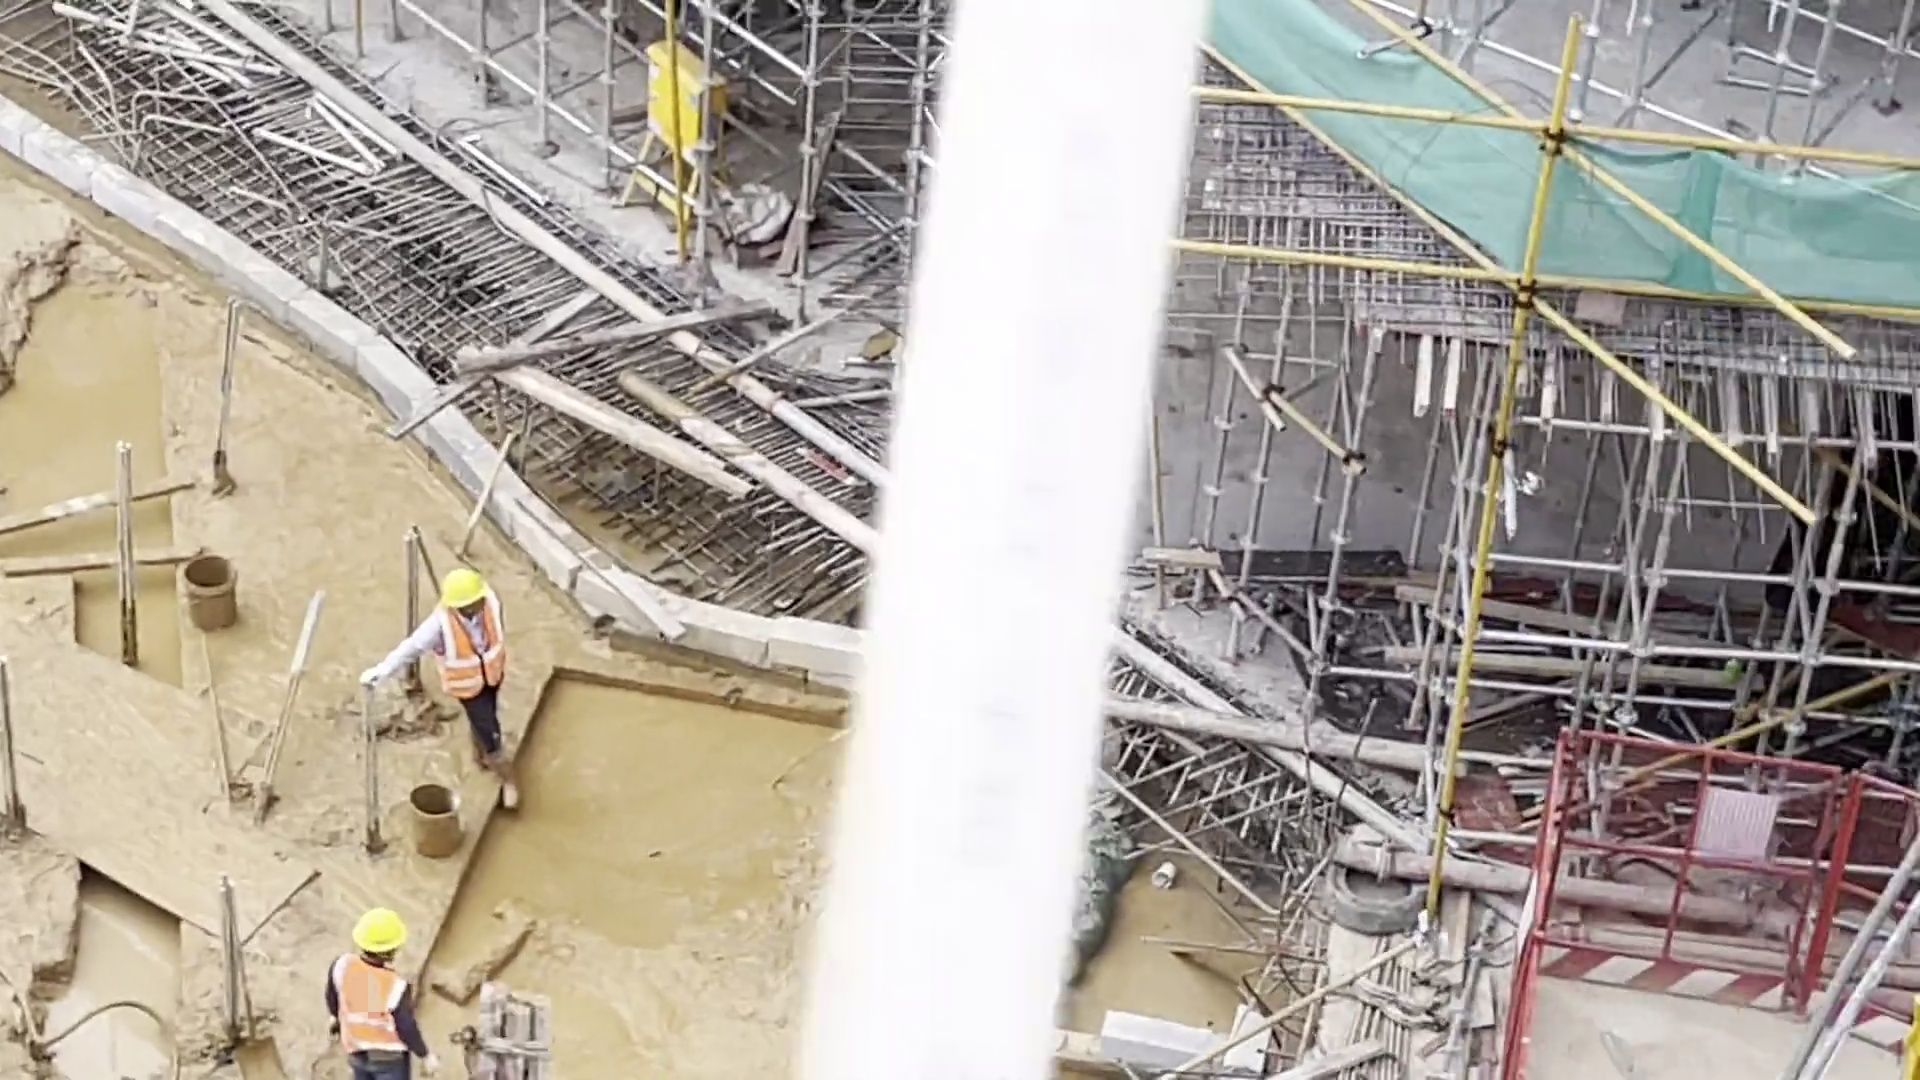helmet: (354, 905, 408, 952), (437, 569, 486, 611)
person: (359, 563, 507, 765), (321, 906, 436, 1080)
vest: (333, 947, 415, 1064), (434, 605, 504, 695)
